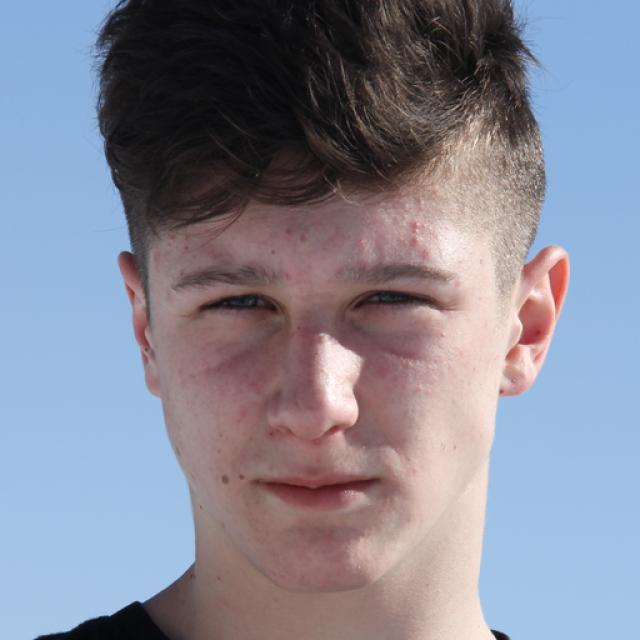Acne: (403, 215, 430, 238), (349, 229, 374, 252), (274, 221, 299, 242), (310, 327, 329, 352), (435, 326, 450, 342)
